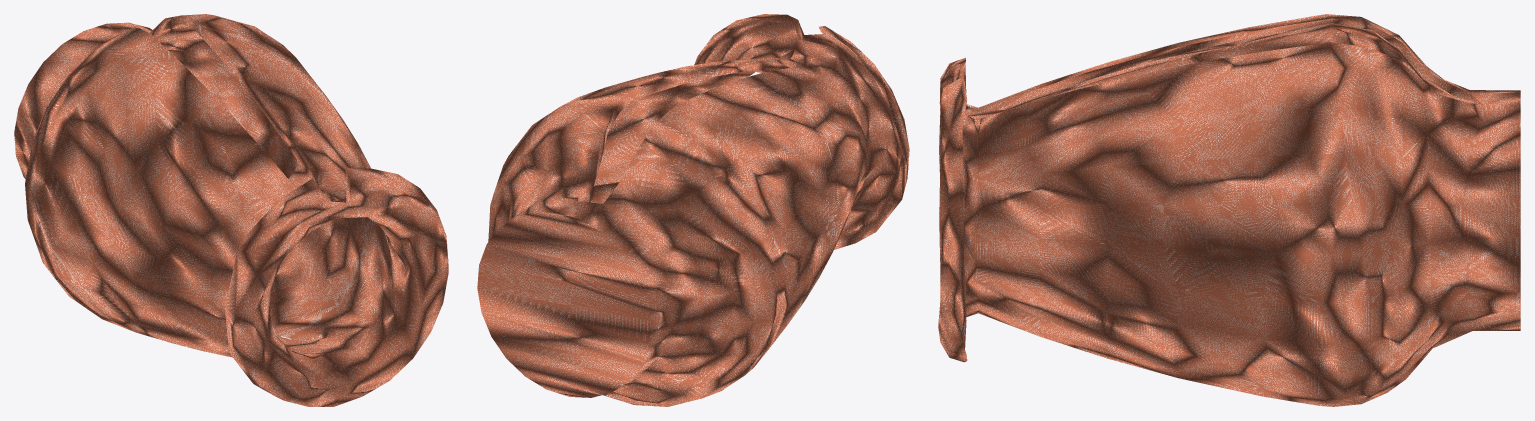
File: model_align.obj
3 views of the same model, side by side, from view 1: azimuth 30°, elevation 25°; view 2: azimuth 150°, elevation 25°; view 3: azimuth 270°, elevation 25° (orthographic). The views are drawn at different scales.
Bounding box in the file's own units: 0.1366 × 0.136 × 0.2024.
